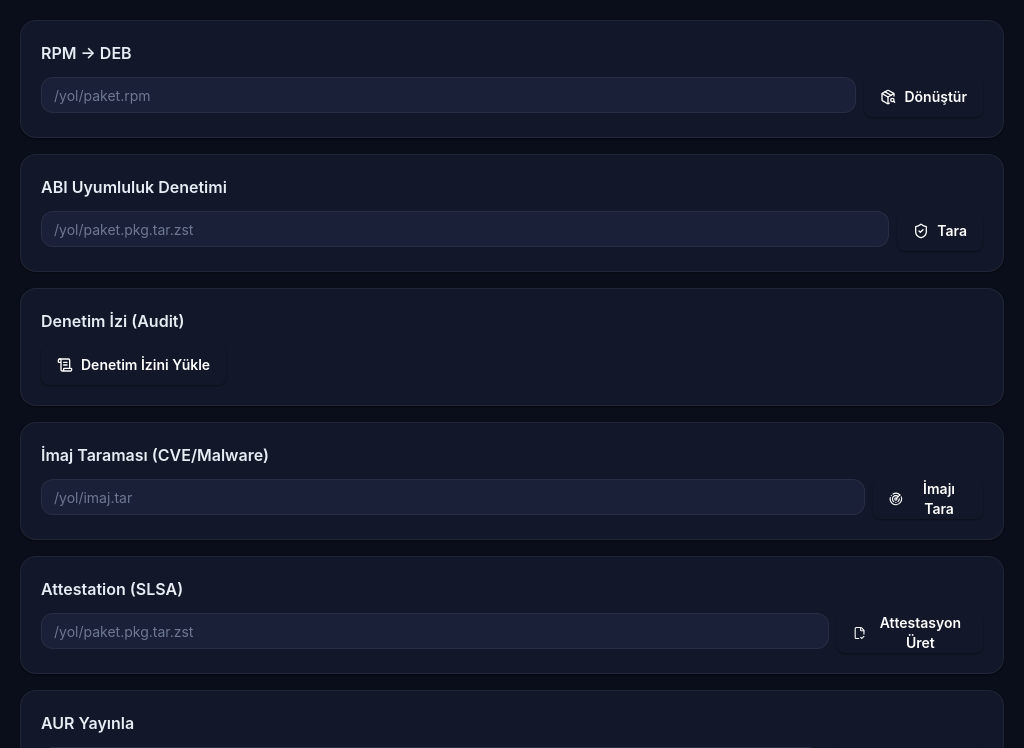
Test case: Tools page handler error paths and snapshot status branches › handleRpm RPC error toasts the message and re-enables the button
Step 1. Type "/tmp/p.rpm" into the field with placeholder "/yol/paket.rpm" → {"x": 449, "y": 95}, box [41, 77, 856, 113]
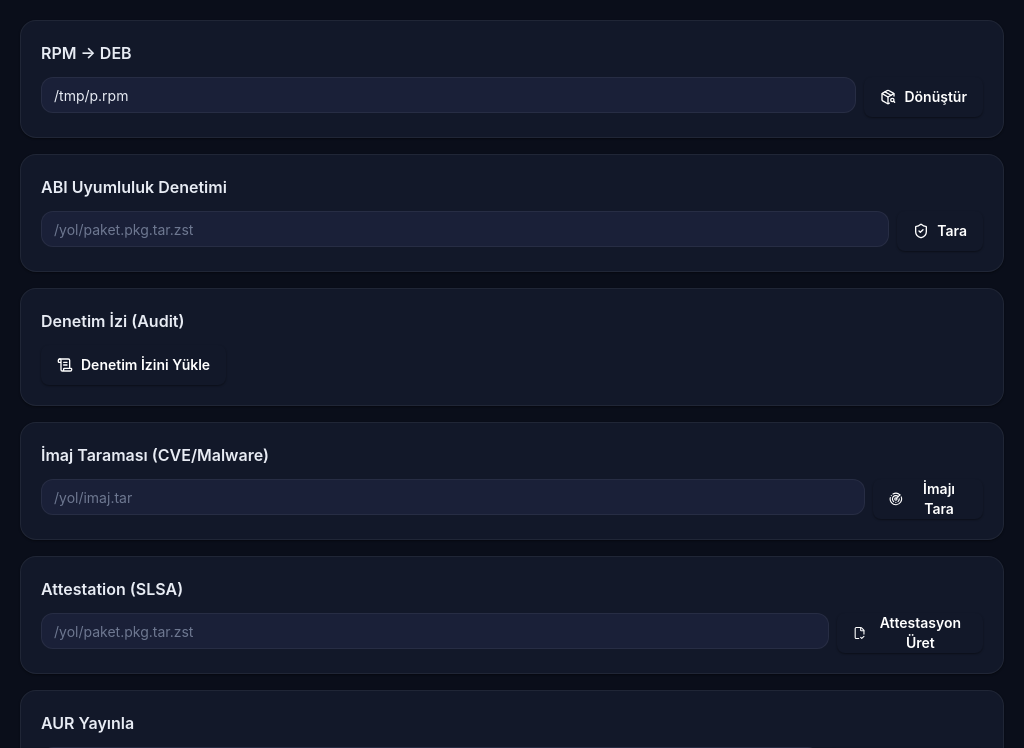
Step 2. Click the button "Dönüştür" → {"x": 924, "y": 97}, box [864, 77, 983, 117]
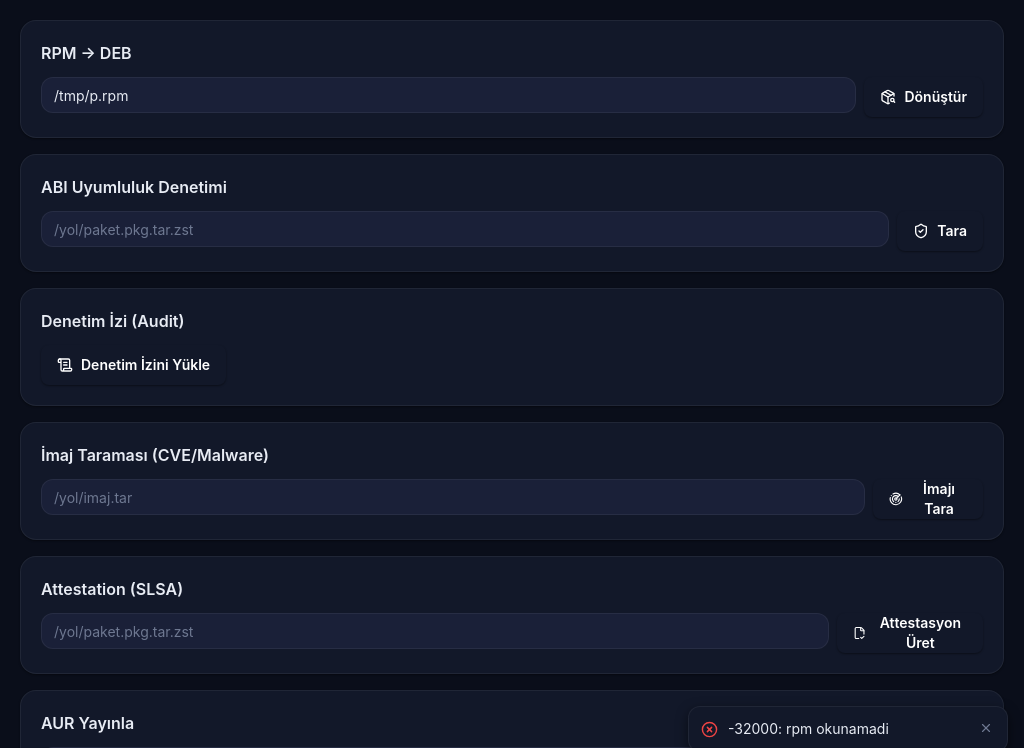
Check: the text "-32000: rpm okunamadi" is shown, box [728, 720, 889, 737]
